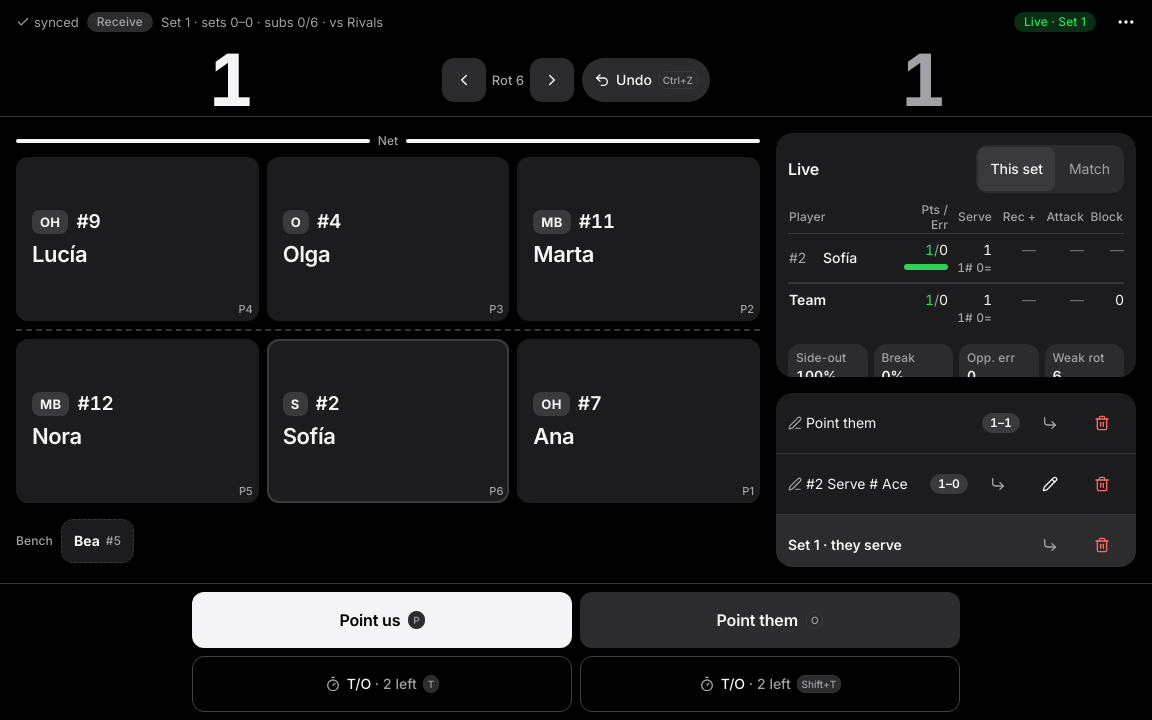
Test: ScoutPage › a text batch confirms with wording that names the source
This screenshot has width=1152, height=720.
Click the button "Undo Ctrl+Z".
click(646, 80)  # box [582,58,710,102]
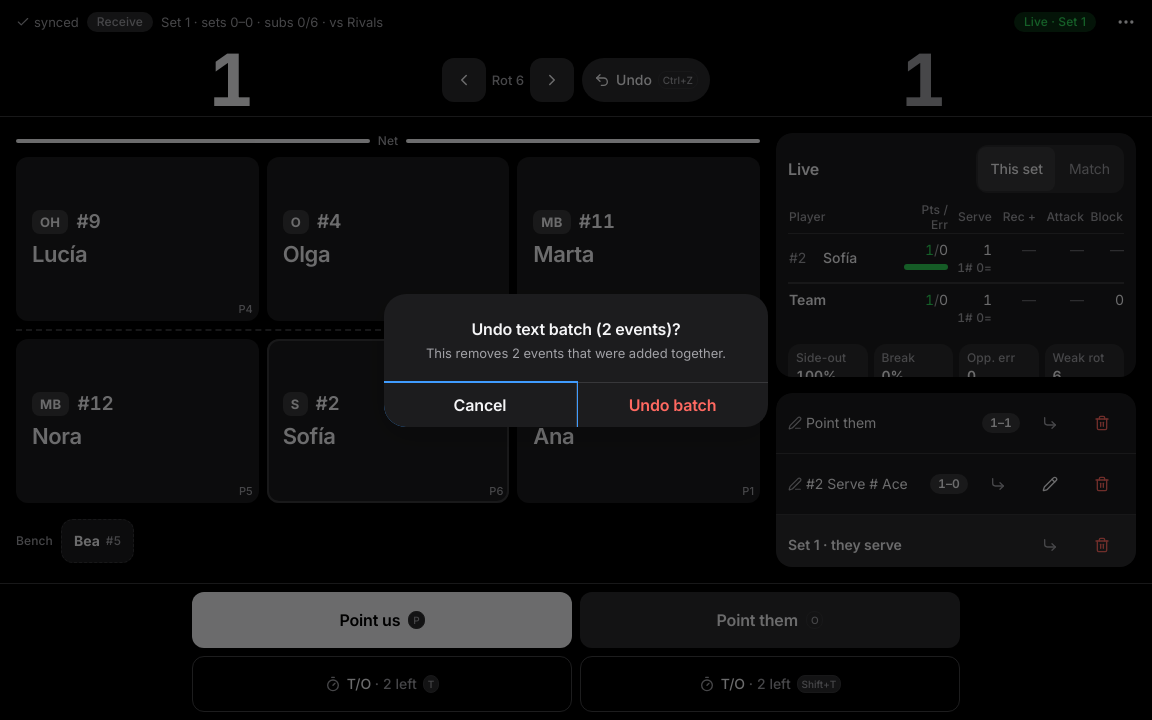
Now the dialog "Undo text batch (2 events)?" is shown, box [384,294,768,426]
